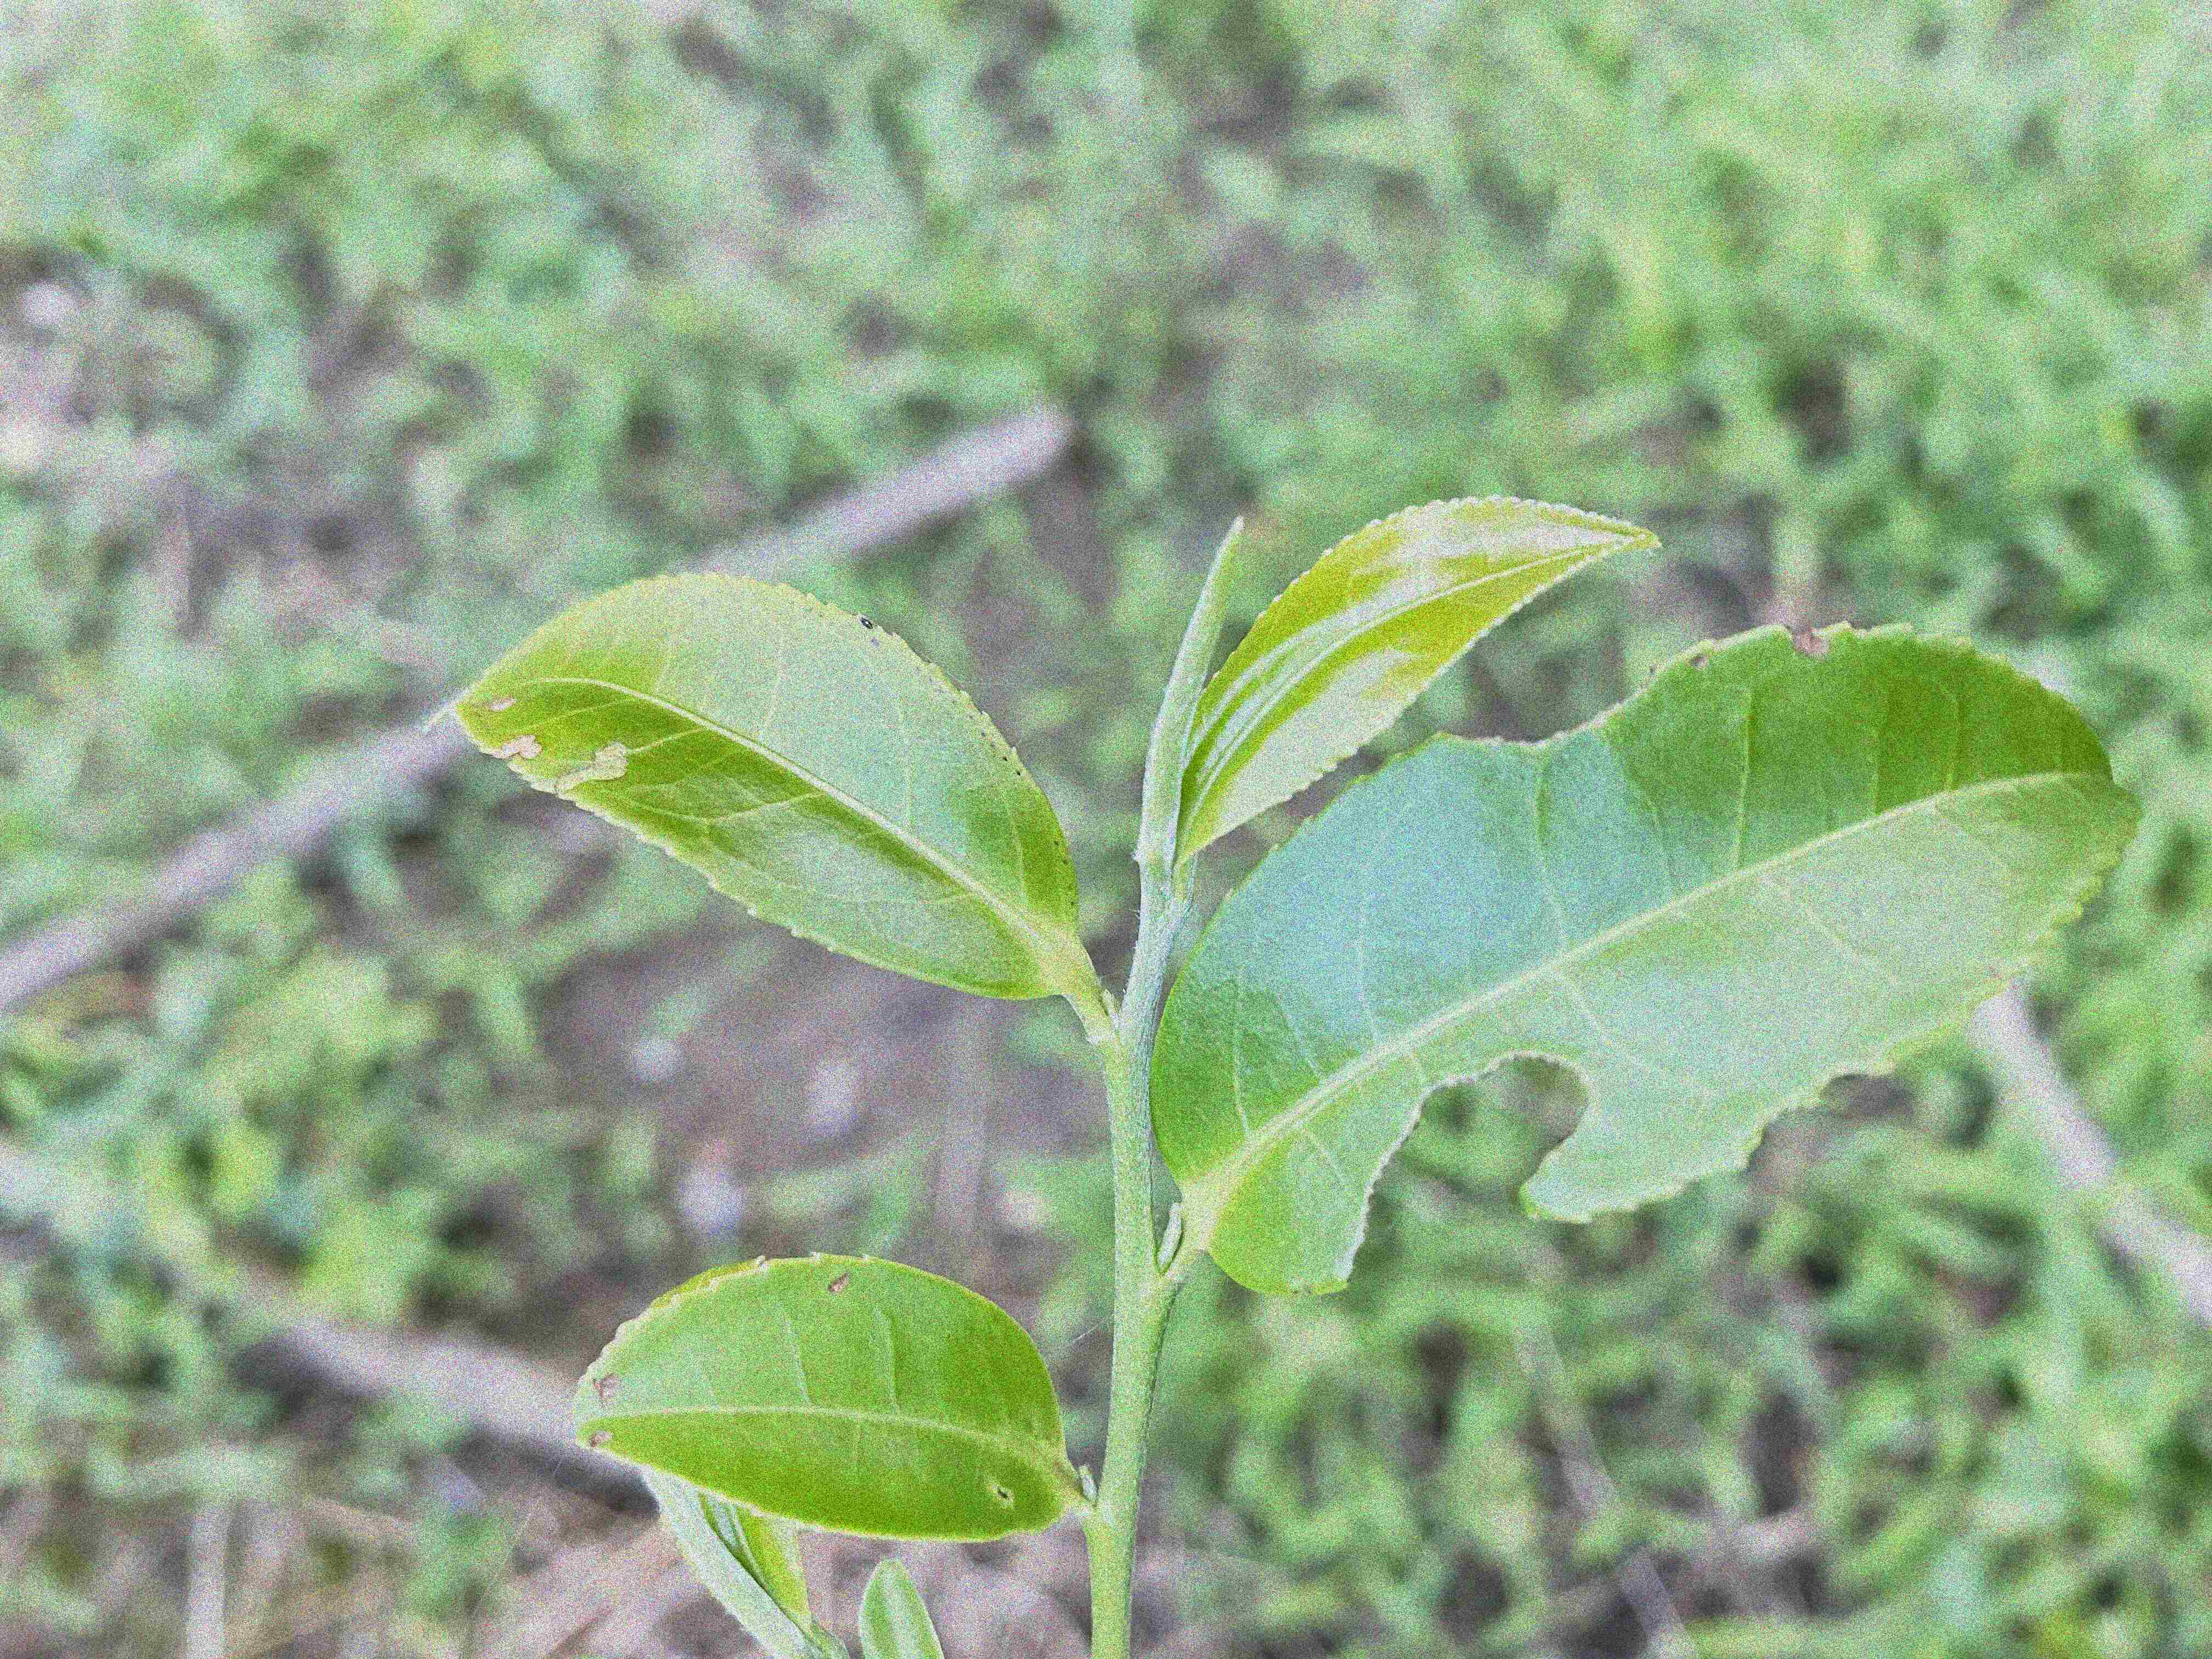chihuo_high: (1151, 626, 2141, 1298)
healthy: (1172, 493, 1665, 864)
tanju_low: (446, 573, 1094, 1000), (571, 1249, 1071, 1542)
